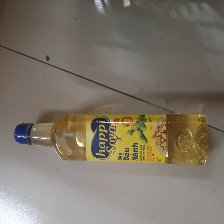Happy Soya: (12, 111, 211, 165)
